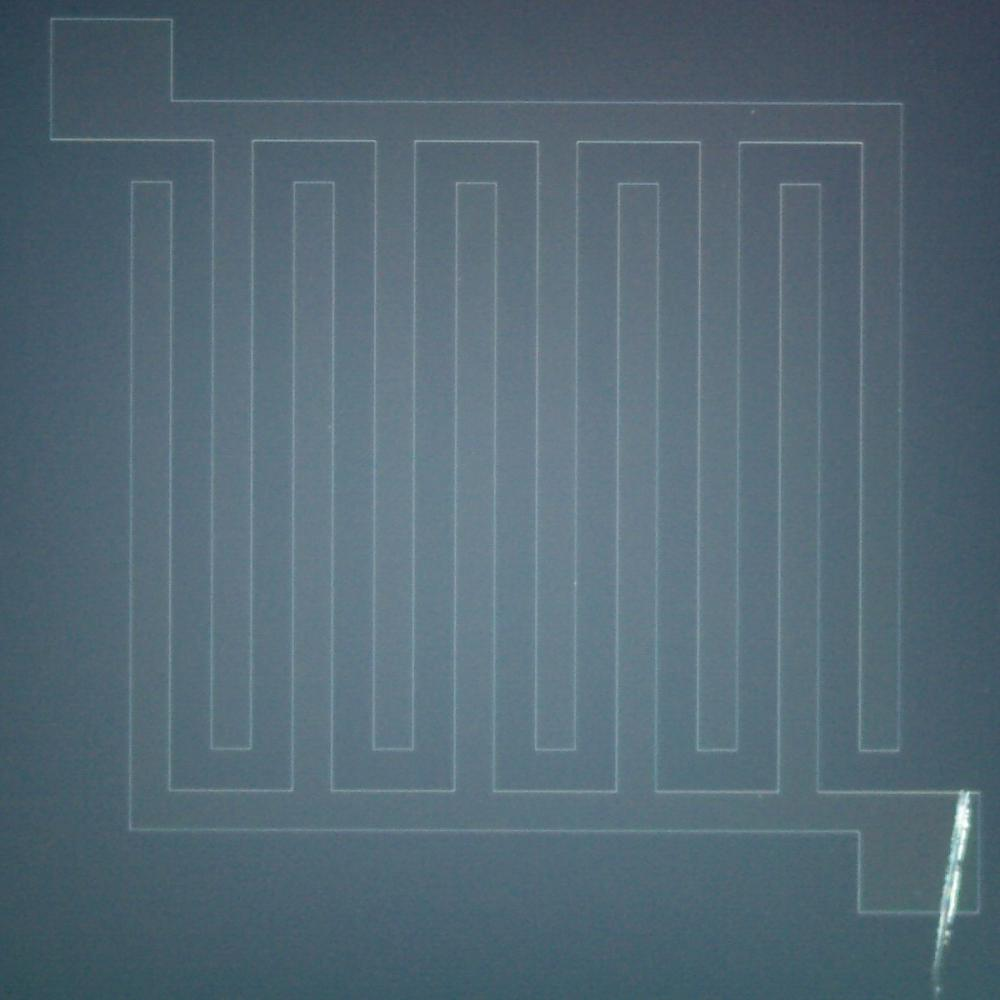dot: (751, 110, 755, 113)
straight: (935, 833, 974, 871), (924, 957, 962, 996), (938, 794, 977, 832), (933, 873, 970, 912), (927, 916, 963, 954)
